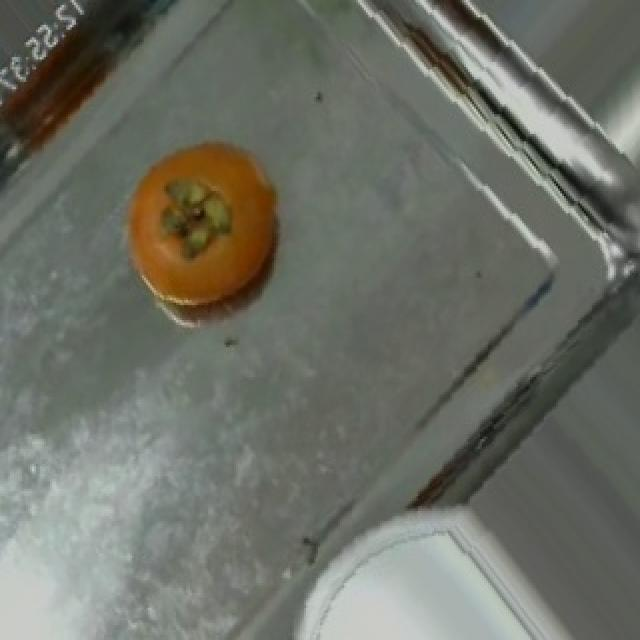Fruit: (102, 116, 304, 332), (288, 501, 542, 640)
